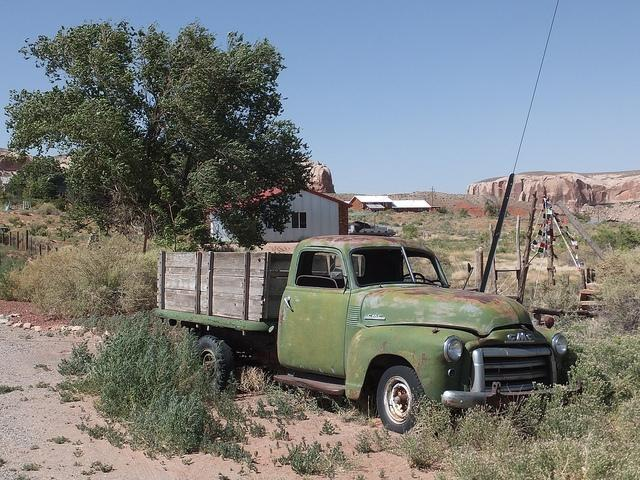truck: (148, 234, 582, 435)
